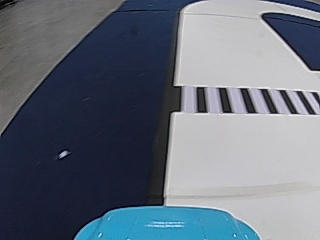CrossWalk: (175, 85, 309, 114)
